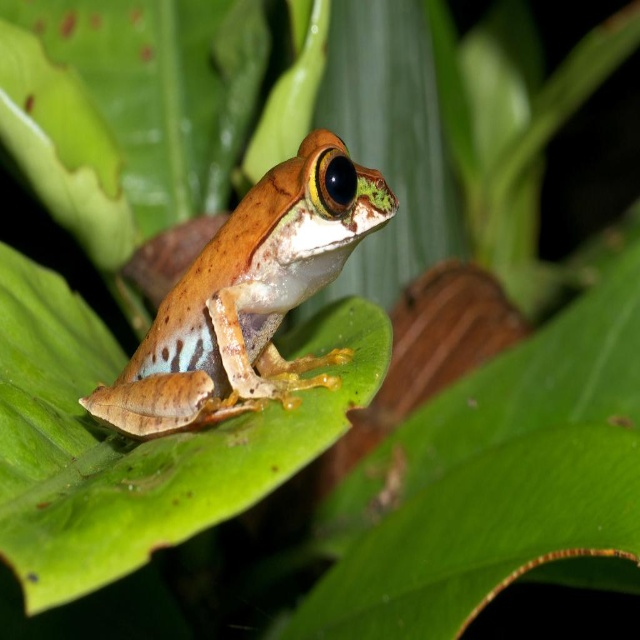Frog: (77, 125, 401, 443)
